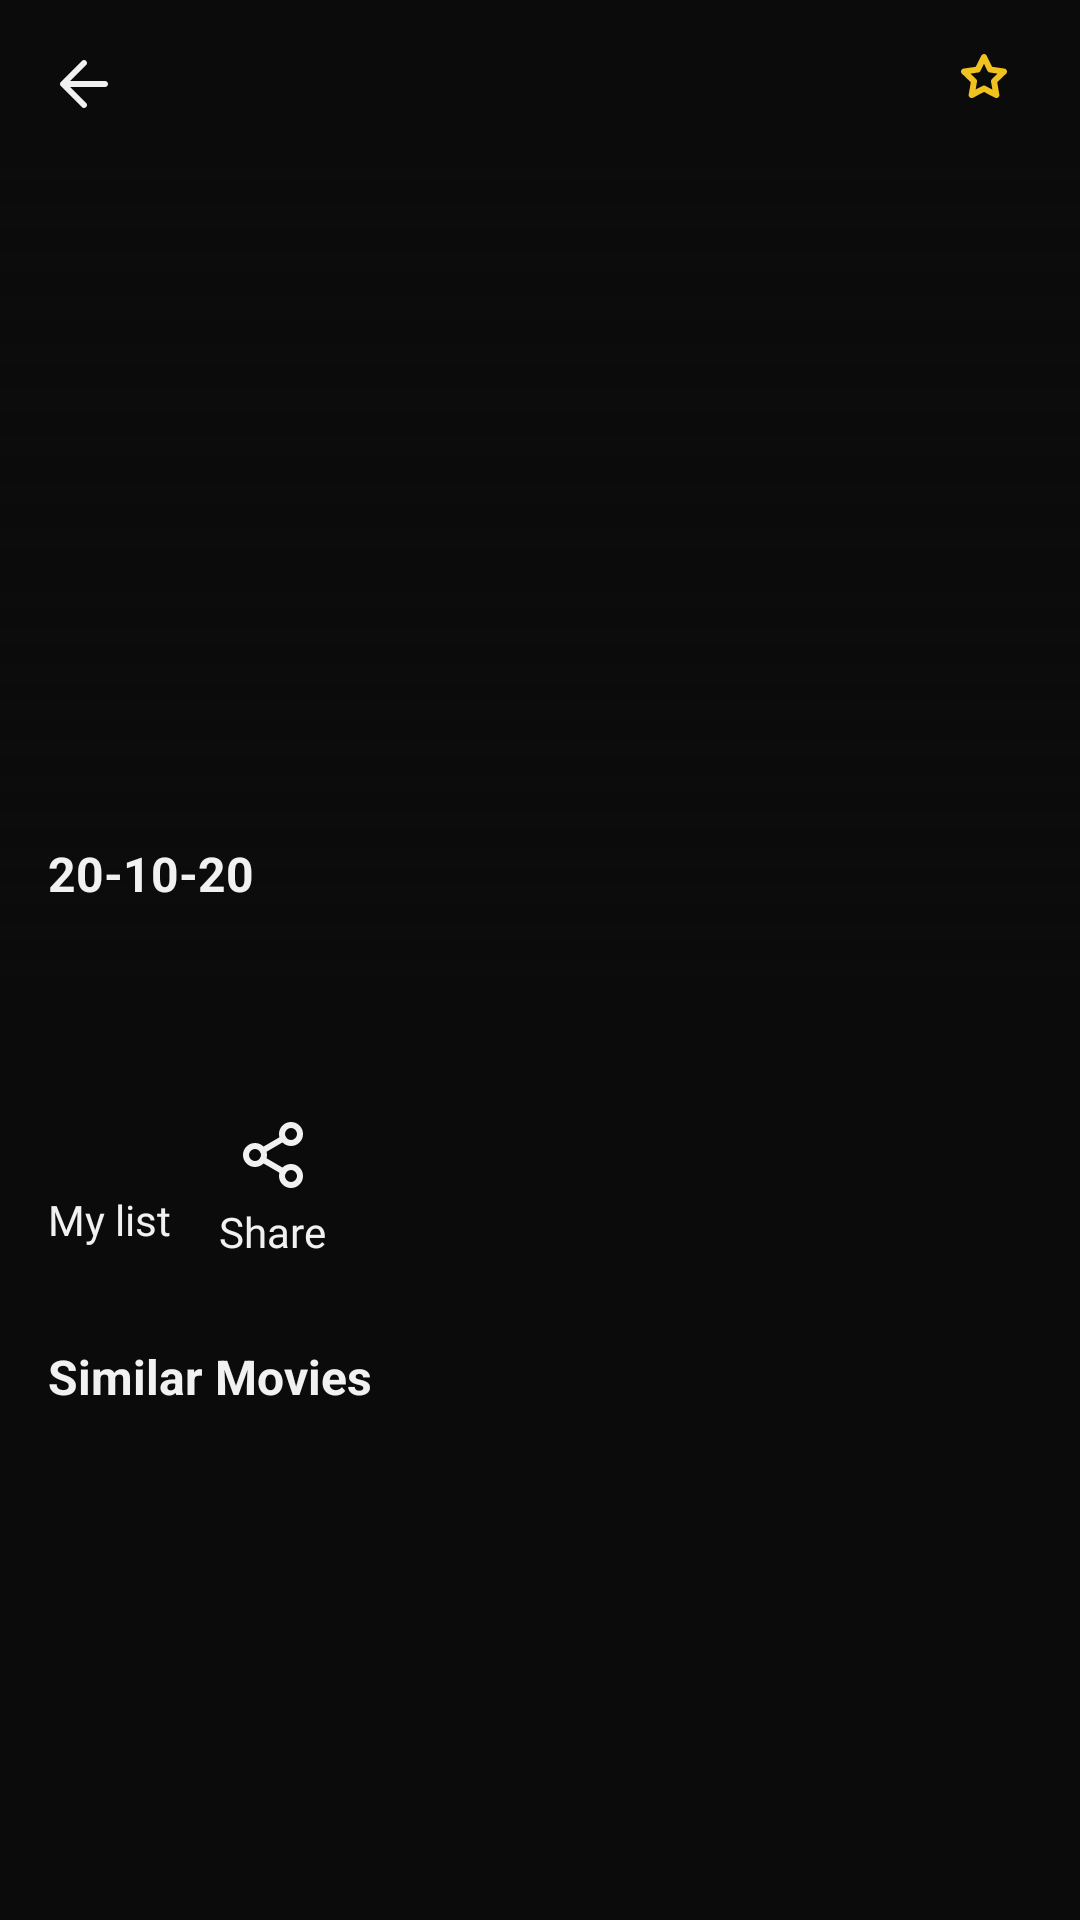

Point at icon controls on the screen. Image size 1080px x 1920px, points as (x,y).
back: (84,84)
rating: (984,76)
